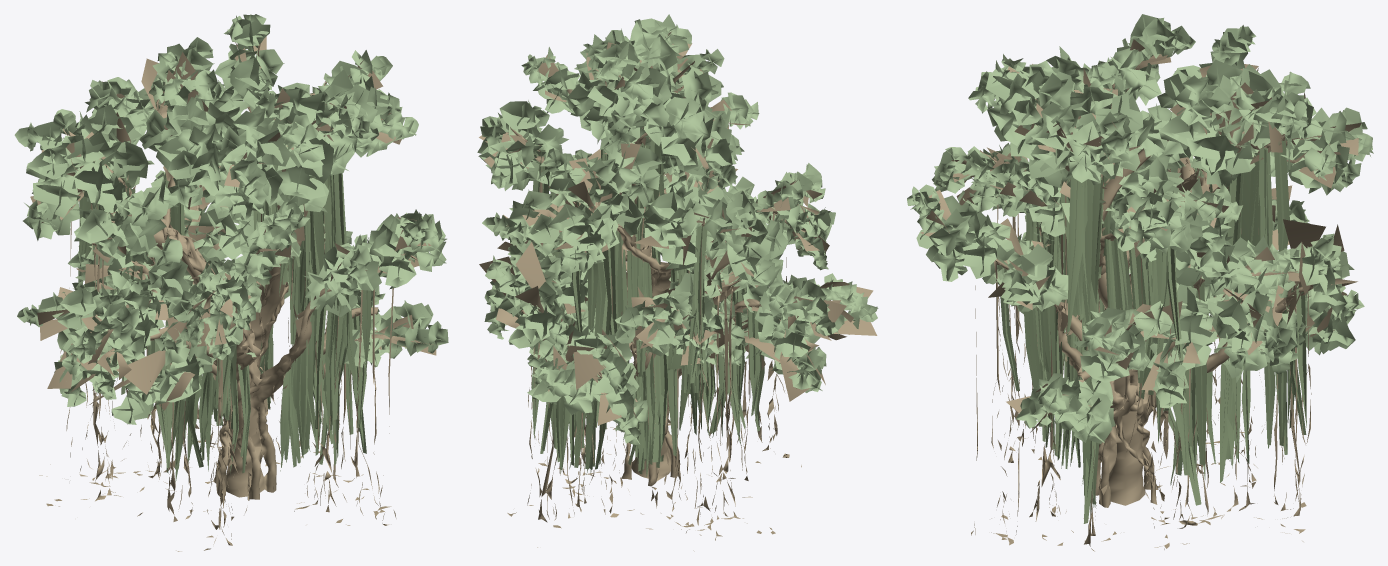
File: banyan.glb
3 views of the same model, side by side, from view 1: azimuth 30°, elevation 25°; view 2: azimuth 150°, elevation 25°; view 3: azimuth 270°, elevation 25° (orthographic). The views are drawn at different scales.
Size of the model in its own units: 17.75 by 20.26 by 17.47.
